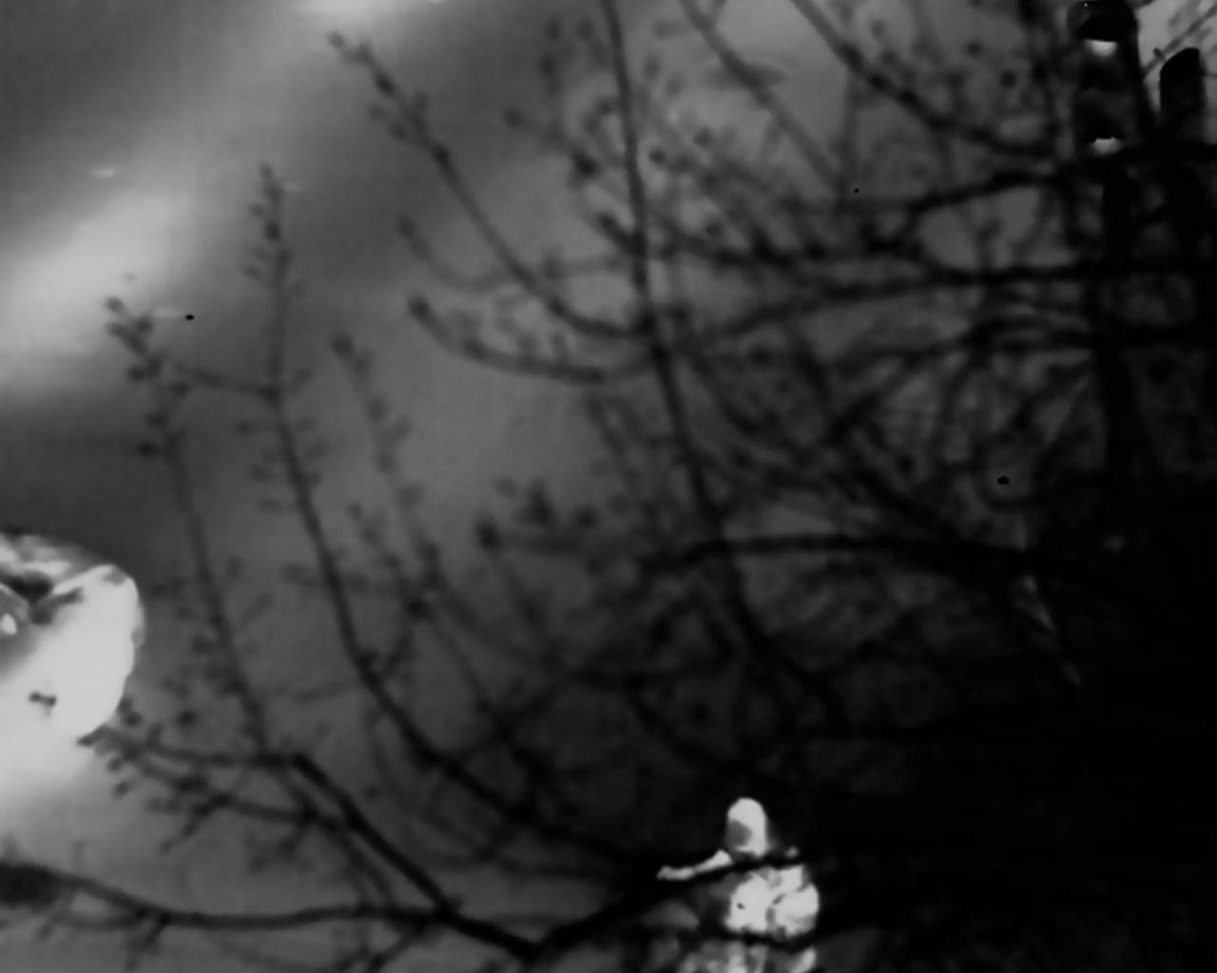person: (693, 792, 824, 969)
